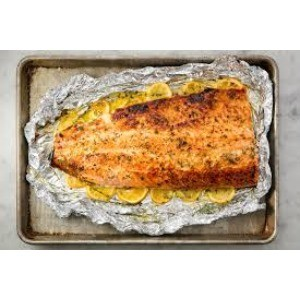salmon_brain food: (46, 94, 267, 189)
